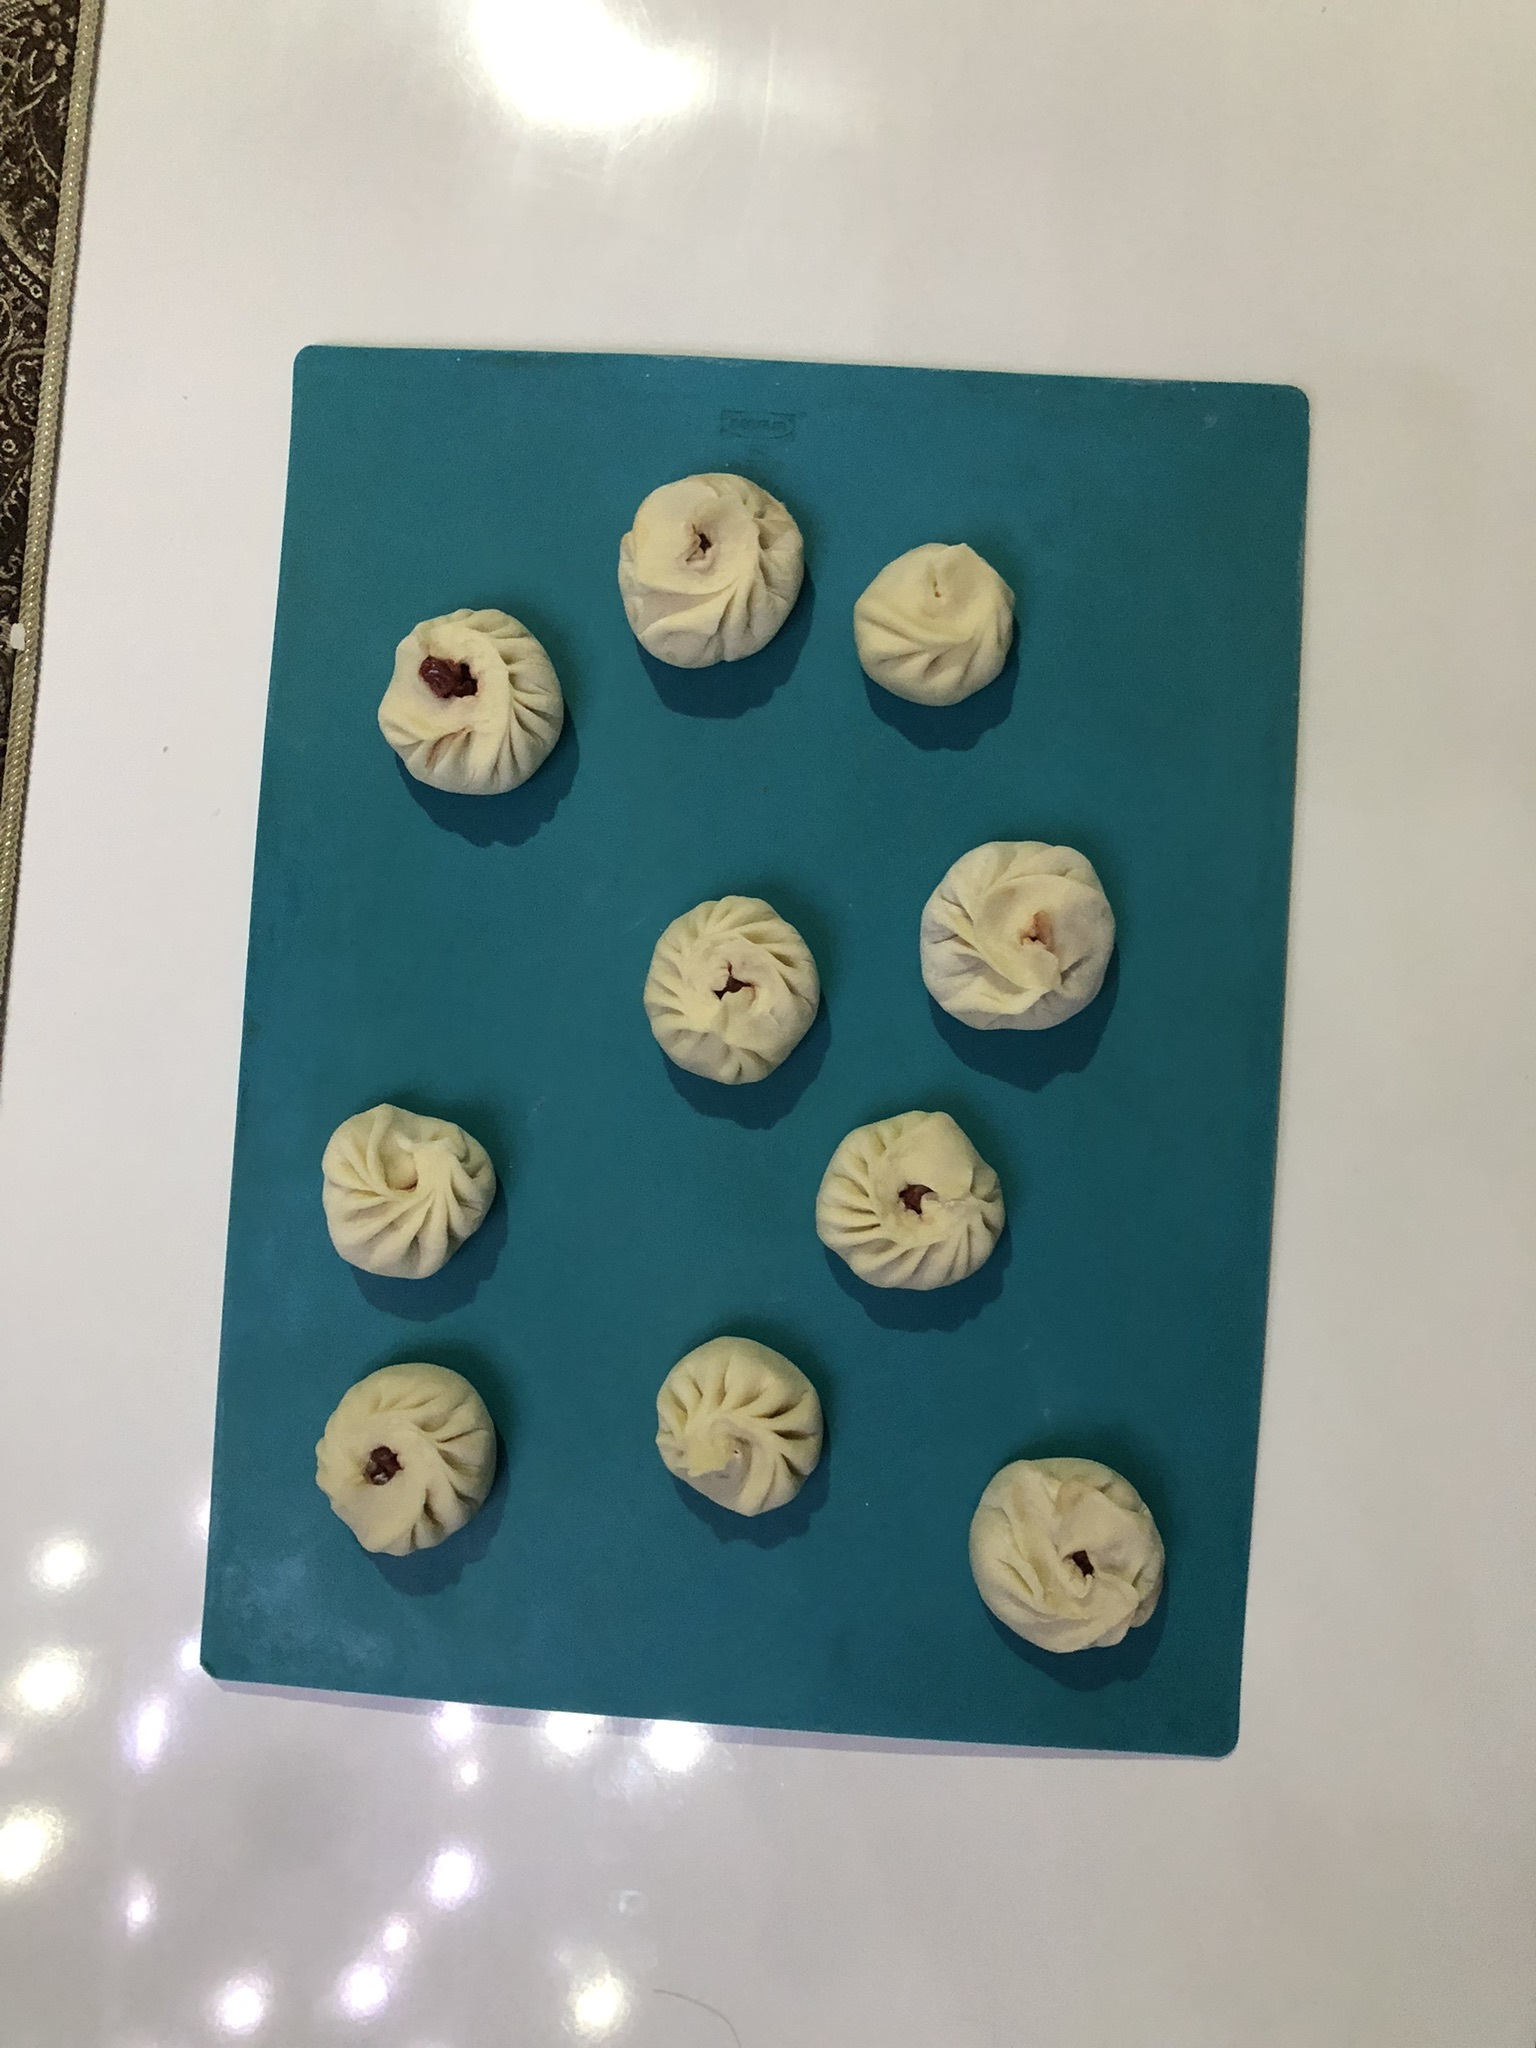buuz: (955, 1442, 1176, 1680), (607, 461, 820, 681), (907, 832, 1129, 1039), (311, 1351, 516, 1564), (807, 1097, 1012, 1305), (369, 597, 570, 806), (636, 880, 829, 1097), (313, 1089, 511, 1287), (644, 1322, 841, 1522), (845, 532, 1028, 719)
